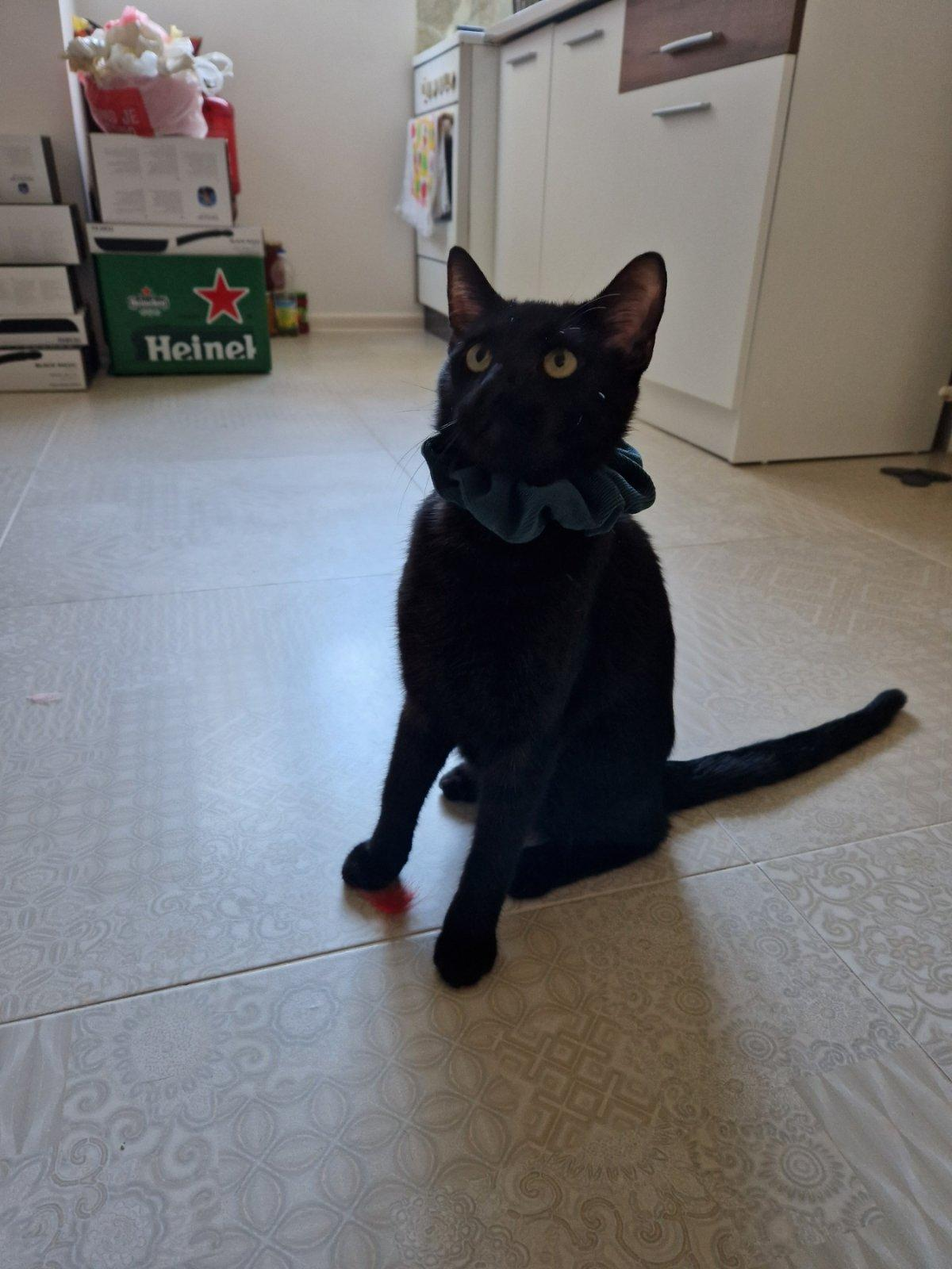macka: (341, 236, 913, 995)
